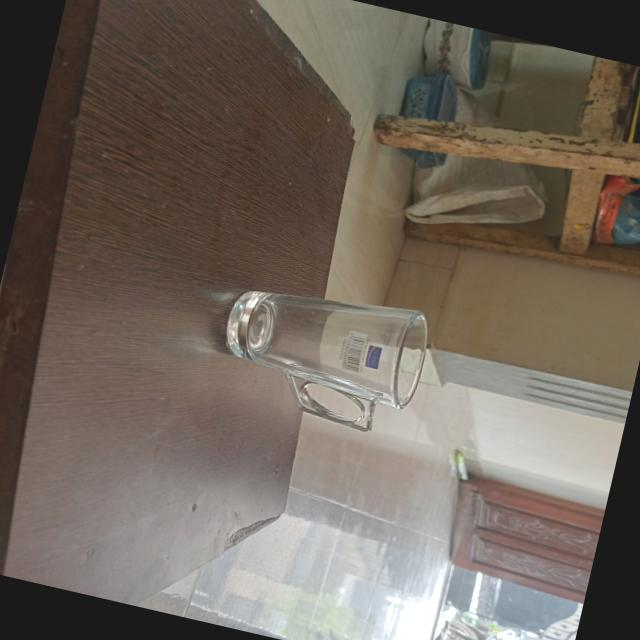glass-VX4N: (210, 266, 438, 440)
